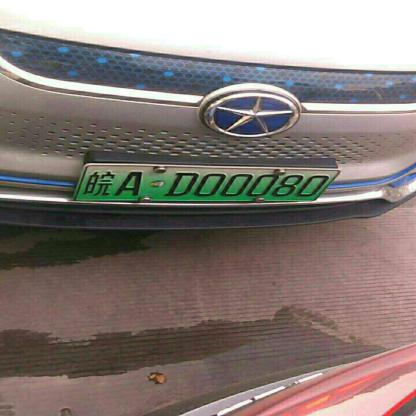lp: (76, 165, 338, 199)
